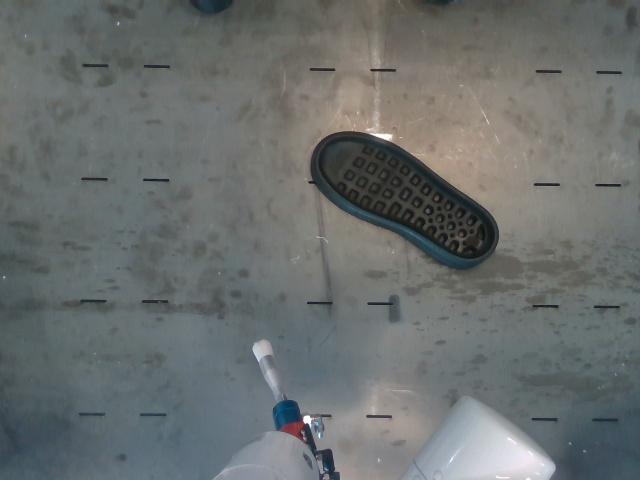shoes: (318, 136, 495, 259)
